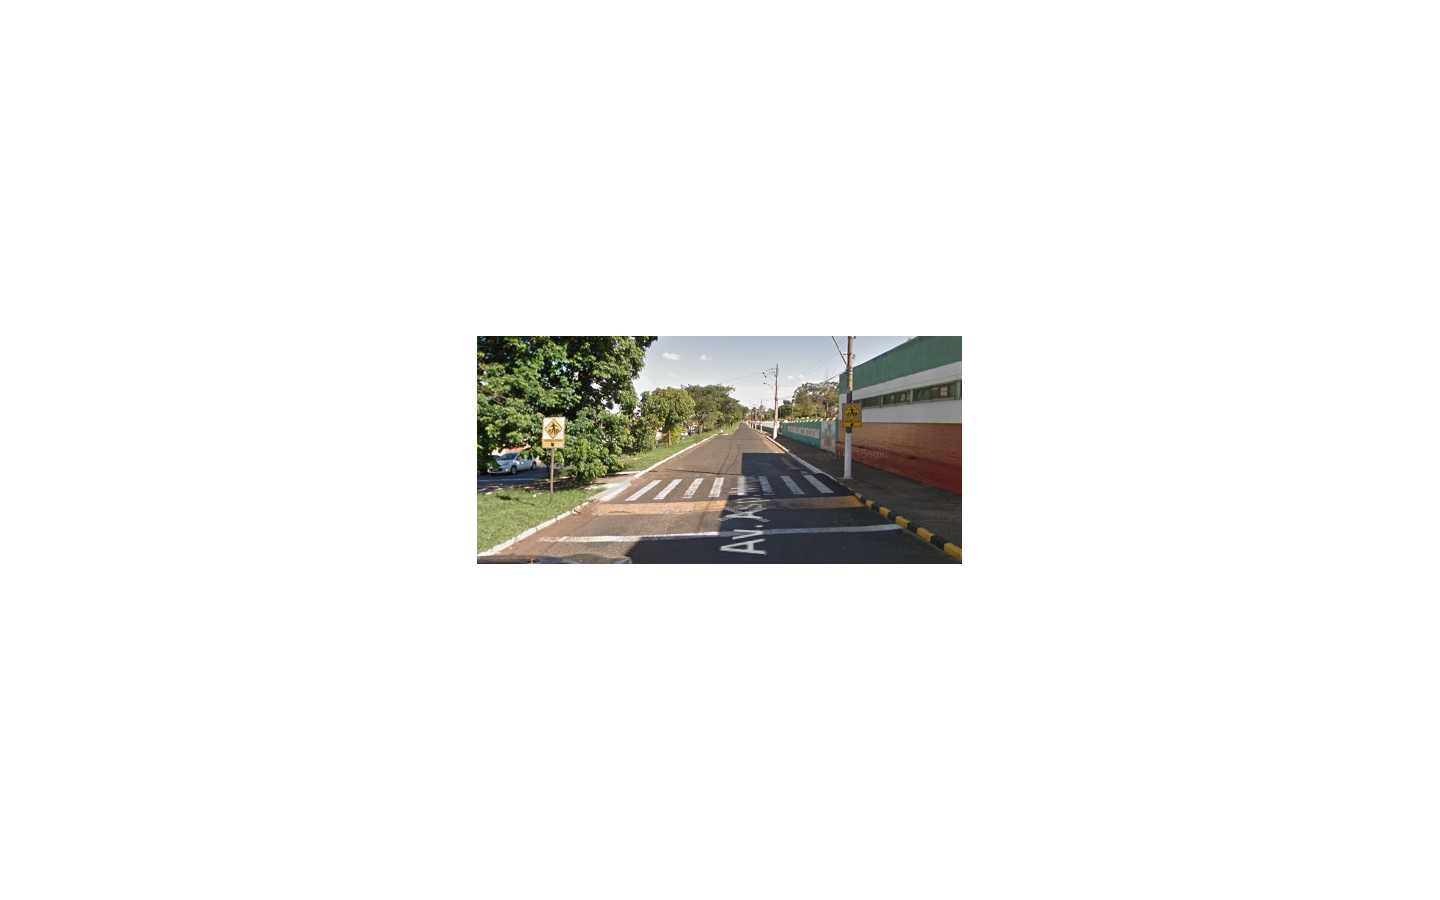telev: (541, 416, 565, 448), (841, 403, 862, 428)
